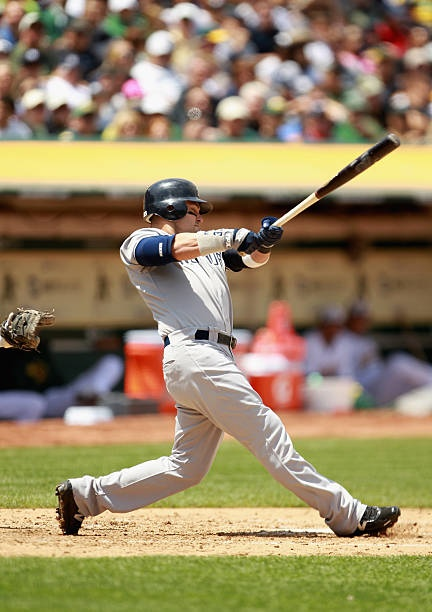bita: (261, 133, 402, 238)
